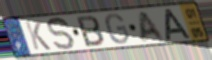A: (138, 9, 166, 43), (165, 8, 192, 42)
B: (75, 15, 106, 49)
G: (105, 13, 132, 46)
K: (23, 20, 53, 52)
S: (47, 17, 76, 52)
